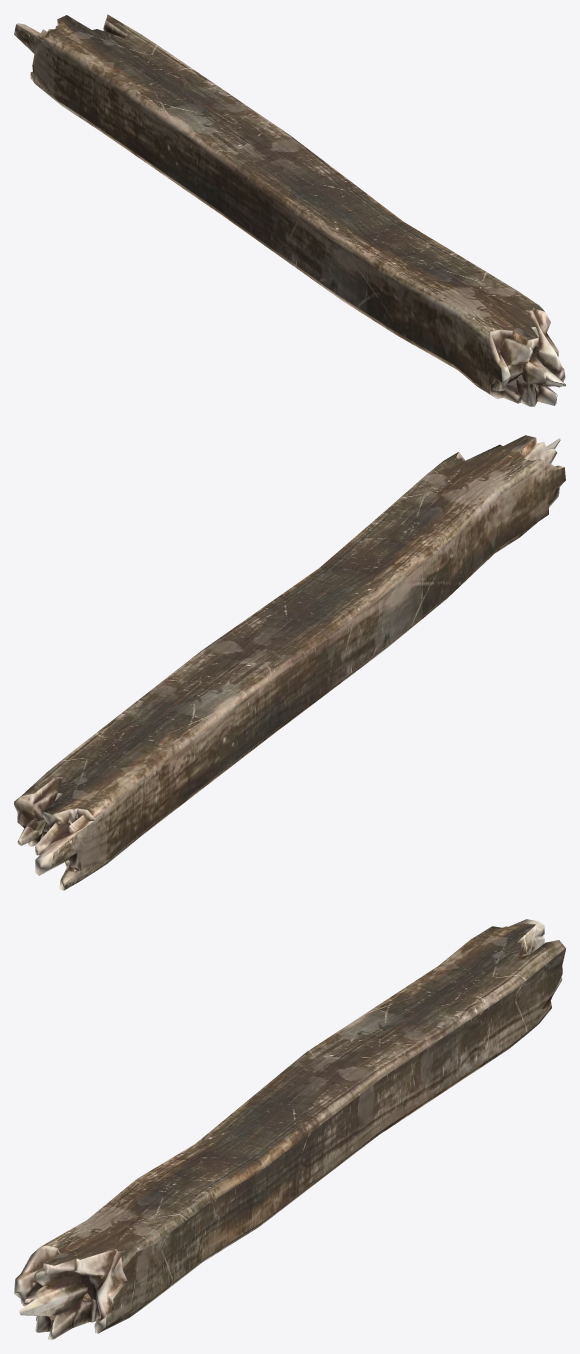
3 views of the same model, one above another, from view 1: azimuth 30°, elevation 25°; view 2: azimuth 150°, elevation 25°; view 3: azimuth 330°, elevation 25° (orthographic). The views are drawn at different scales.
Visible parts, largest first — view 1: SM_SaradominTemple_Floor_Plank_01_v1_LOD0; view 2: SM_SaradominTemple_Floor_Plank_01_v1_LOD0; view 3: SM_SaradominTemple_Floor_Plank_01_v1_LOD0.
Boxes of the visible parts, <box> form: SM_SaradominTemple_Floor_Plank_01_v1_LOD0: <box>14,14,565,406</box>; SM_SaradominTemple_Floor_Plank_01_v1_LOD0: <box>14,435,565,890</box>; SM_SaradominTemple_Floor_Plank_01_v1_LOD0: <box>14,919,565,1339</box>.
Bounding box in the file's own units: 0.1833 × 0.1681 × 2.01.
Materials: 1 (1 with a texture image).
